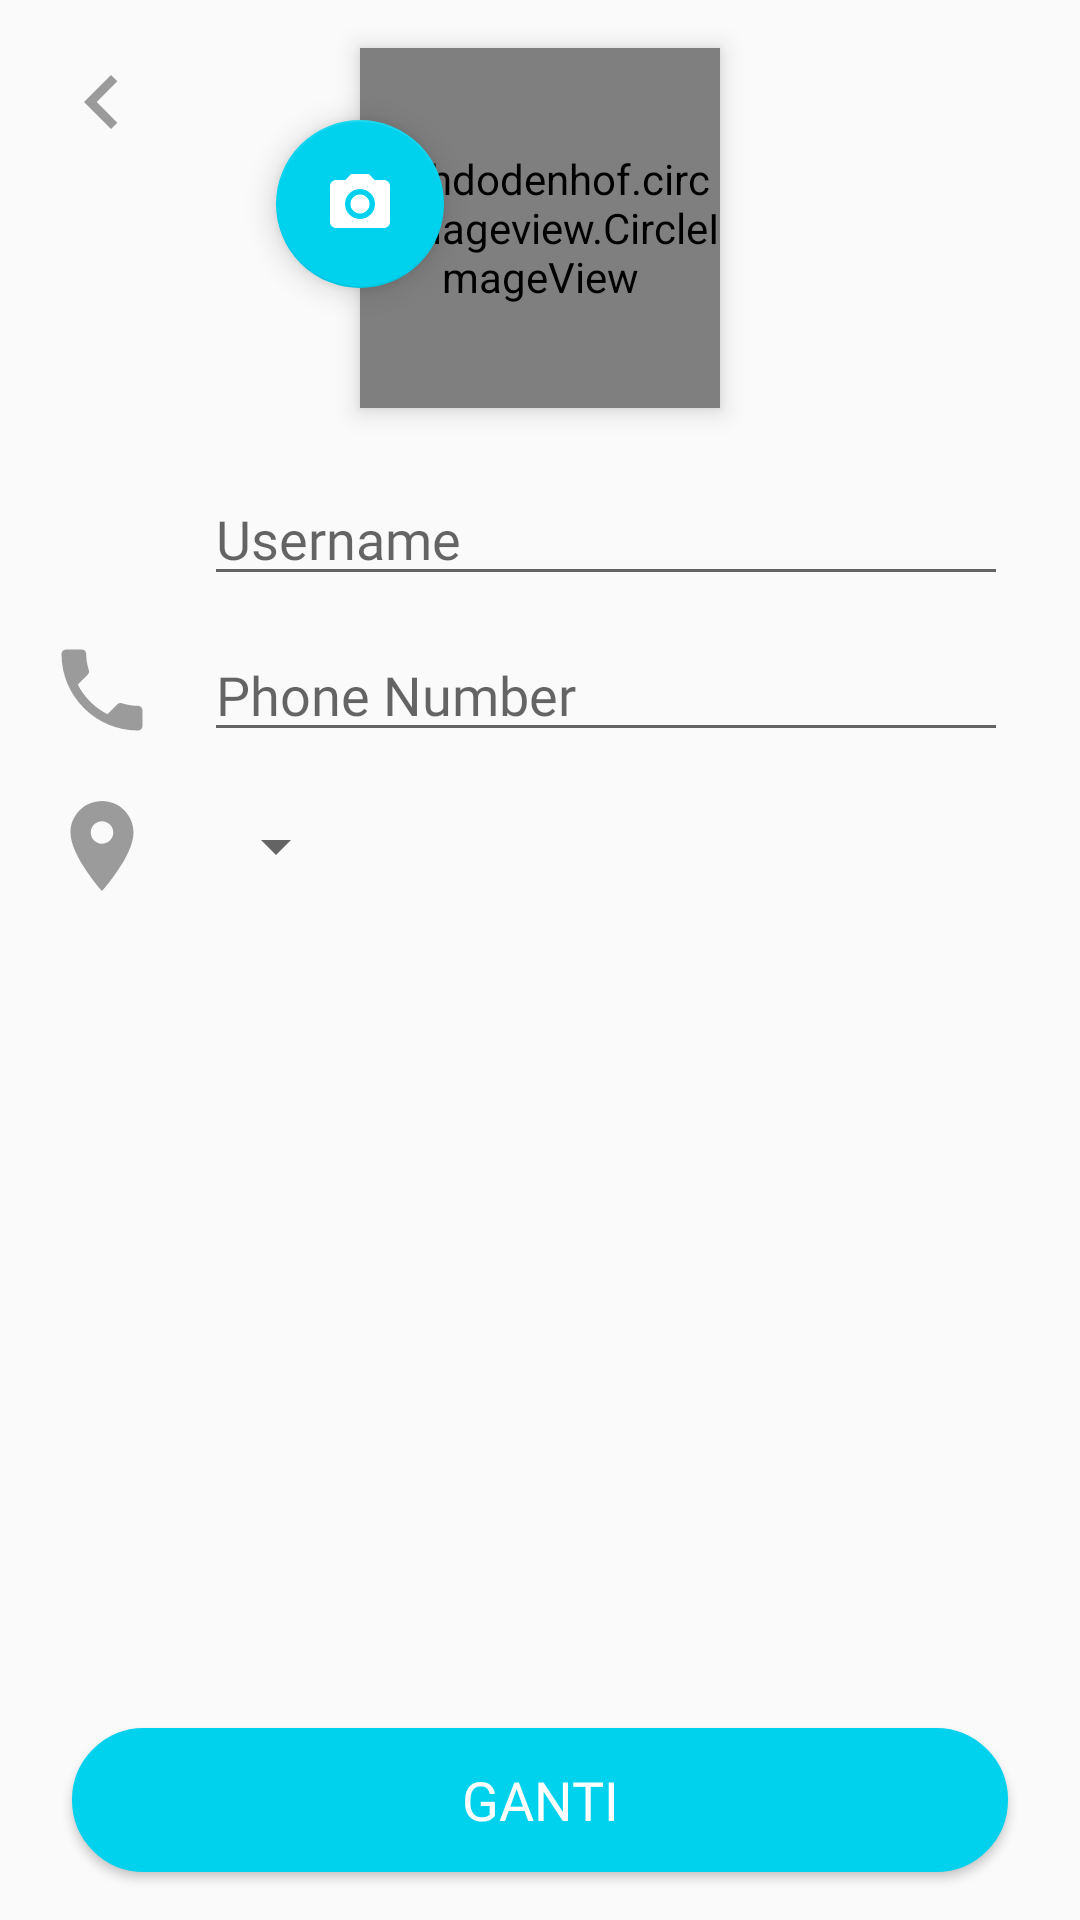

Point at icon controls on the screen. Image size 1080px×1920px, points as point (x, y).
location on: point (102, 846)
navigate before: point (100, 102)
photo camera: point (360, 204)
